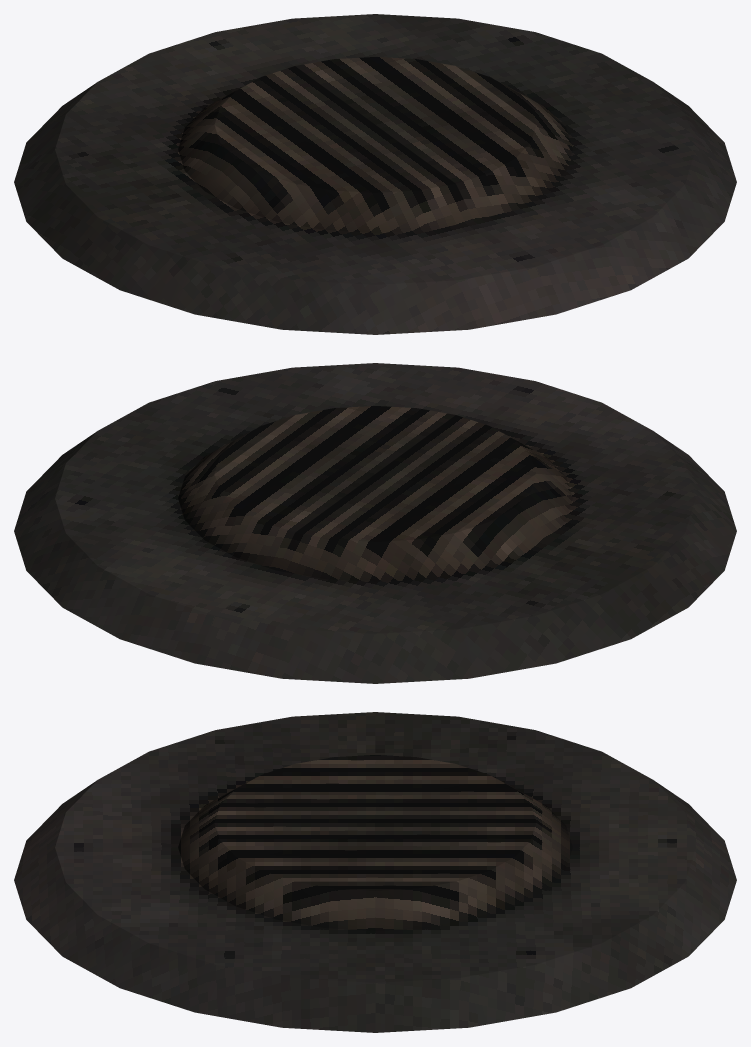
File: drain_cover_3.glb
The picture shows the model from 3 angles, top to bottom: view 1: azimuth 30°, elevation 25°; view 2: azimuth 150°, elevation 25°; view 3: azimuth 270°, elevation 25°; orthographic projection.
Parts seen in each view (by area): view 1: drain_cover_3; view 2: drain_cover_3; view 3: drain_cover_3.
Part boxes in pixels (x1=…): drain_cover_3: x1=14, y1=14, x2=736, y2=334; drain_cover_3: x1=14, y1=363, x2=736, y2=683; drain_cover_3: x1=14, y1=712, x2=736, y2=1032.
Size of the model in its own units: 0.4 by 0.035 by 0.4.
1 material, 1 textured.
